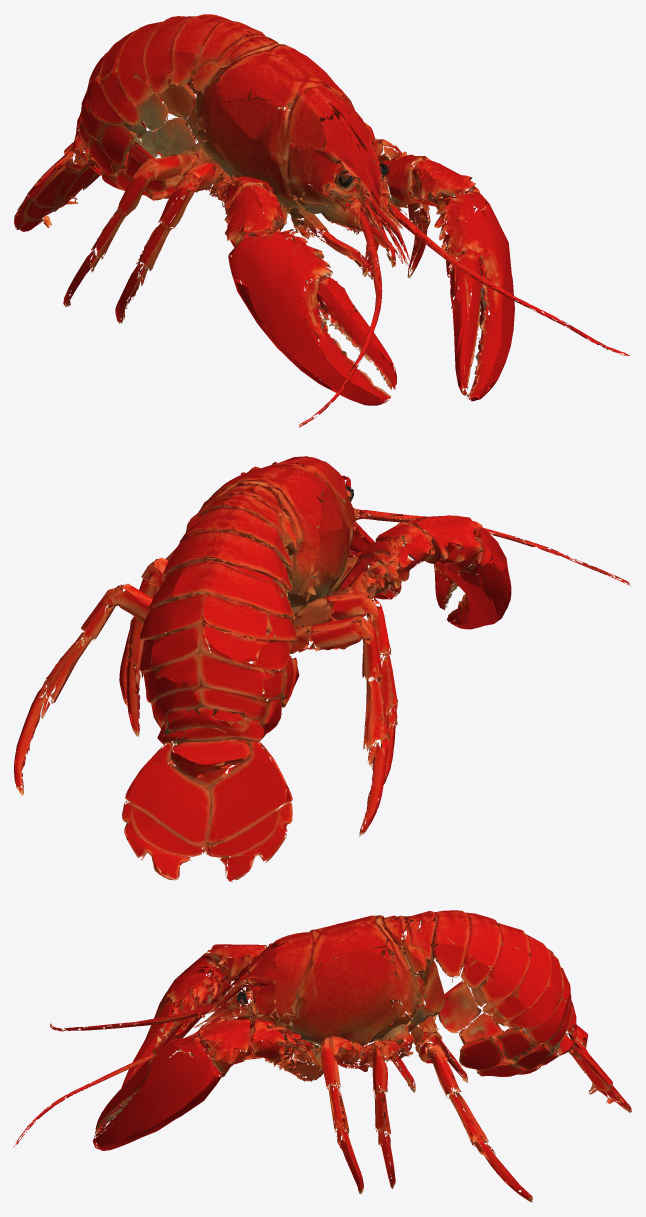
Rendered from crawfish.glb.
The picture shows the model from 3 angles, top to bottom: view 1: azimuth 30°, elevation 25°; view 2: azimuth 150°, elevation 25°; view 3: azimuth 270°, elevation 25°; orthographic projection. The views are drawn at different scales.
Visible parts, largest first — view 1: crawfish; view 2: crawfish; view 3: crawfish.
Part boxes in pixels (x1,y1,x2,y2): crawfish: [14, 14, 629, 427]; crawfish: [14, 456, 630, 881]; crawfish: [14, 910, 631, 1202].
Size of the model in its own units: 0.4994 by 0.4088 by 1.
1 material, 1 textured.
